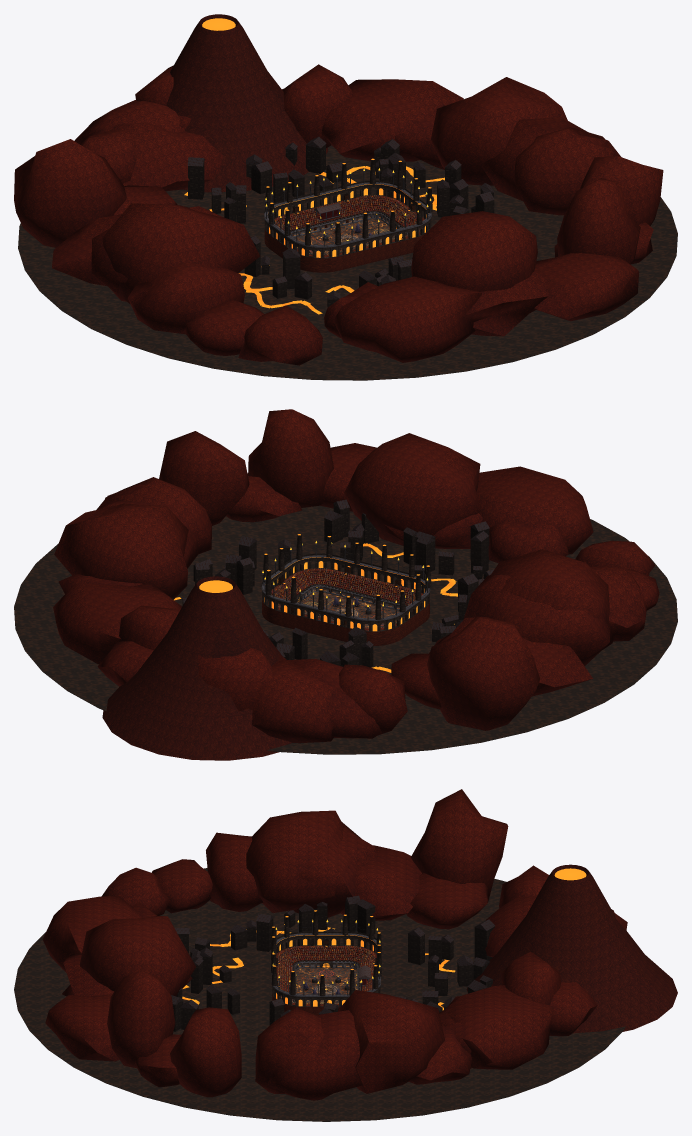
File: arena_forge.glb
3 views of the same model, one above another, from view 1: azimuth 30°, elevation 25°; view 2: azimuth 150°, elevation 25°; view 3: azimuth 270°, elevation 25° (orthographic). The views are drawn at different scales.
Visible parts, largest first — view 1: Decor, Stands, Ground, Walls; view 2: Decor, Stands, Ground, Walls; view 3: Decor, Stands, Ground, Walls.
Boxes of the visible parts, x1,y1,x2,y2 form: Decor: (14,14,677,380); Stands: (264,195,431,272); Ground: (294,218,394,254); Walls: (290,210,408,258); Decor: (14,409,677,760); Stands: (262,568,429,645); Ground: (298,592,399,627); Walls: (283,583,407,631); Decor: (14,789,677,1121); Stands: (272,945,376,1015); Ground: (295,967,357,1003); Walls: (292,960,360,1006).
Size of the model in its own units: 320 by 68 by 340.
Materials: 17 (11 with a texture image).
